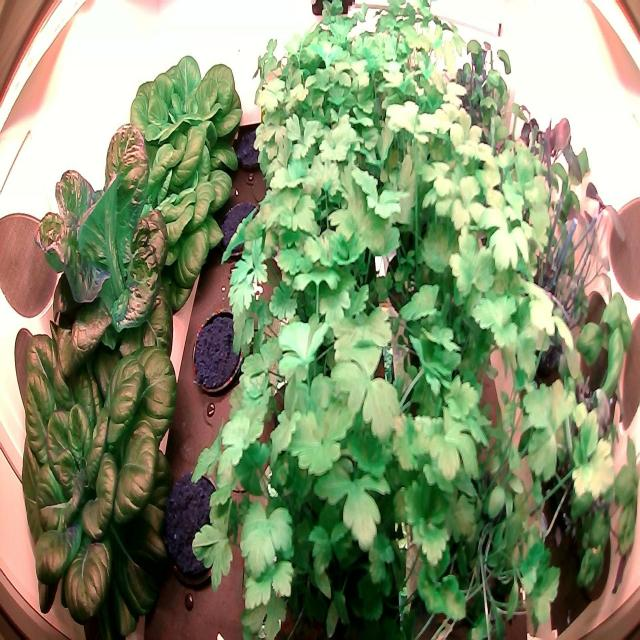Ready: (9, 292, 190, 638), (24, 113, 180, 410), (95, 118, 236, 306), (121, 40, 247, 187)
pod: (156, 464, 226, 600), (188, 302, 247, 400), (216, 189, 266, 267), (232, 118, 270, 178)
